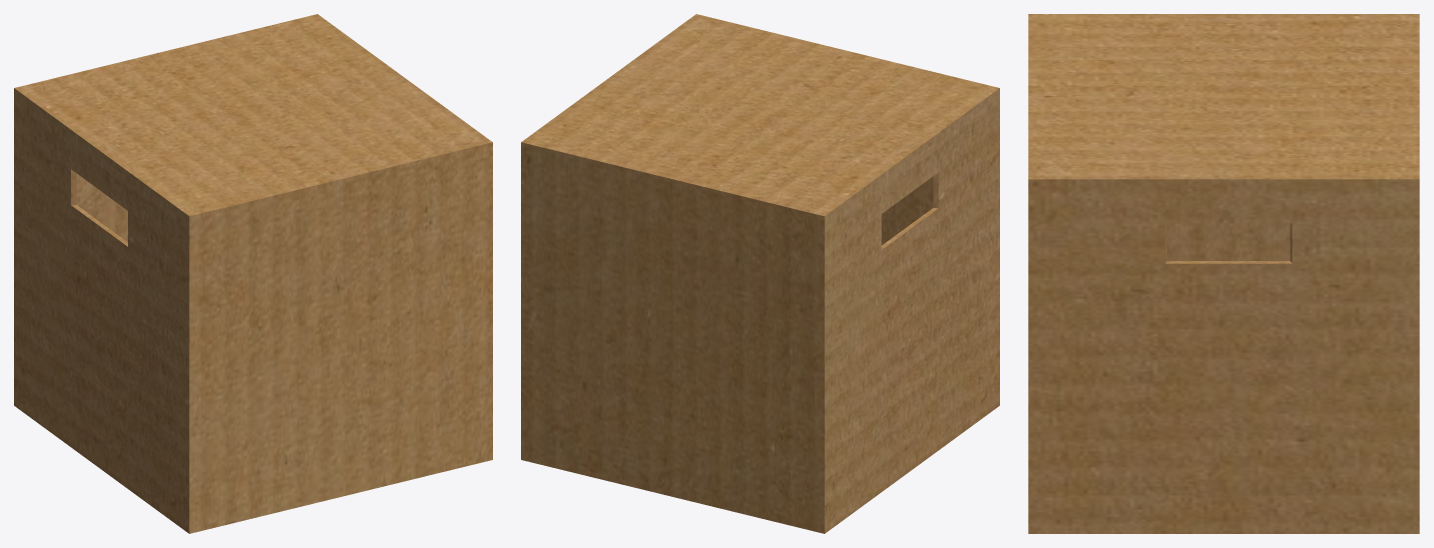
File: BaseBoxTextured.fbx
The picture shows the model from 3 angles, left to right: view 1: azimuth 30°, elevation 25°; view 2: azimuth 150°, elevation 25°; view 3: azimuth 270°, elevation 25°; orthographic projection. The views are drawn at different scales.
Parts seen in each view (by area): view 1: Box; view 2: Box; view 3: Box.
Boxes of the visible parts, box(x1,y1,x2,y2) form: Box: box(14, 14, 492, 533); Box: box(521, 14, 999, 533); Box: box(1028, 14, 1419, 533).
Size of the model in its own units: 200 by 200 by 200.
Materials: 1 (1 with a texture image).
